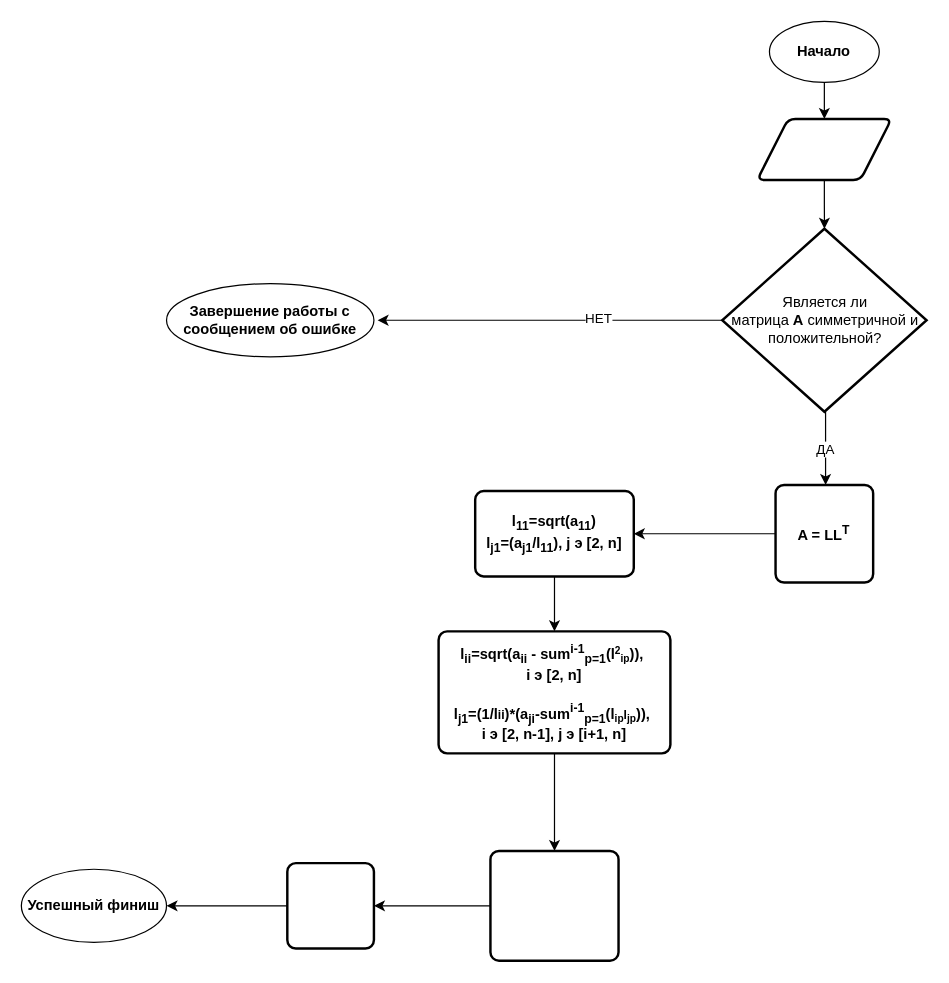
Some shapes in this 949 by 983 pixel diagram are drawn without their labels. Here are the shapes that lost their labels. From the top down, the box of each, then its label:
(755, 117, 892, 181): Ввод: матрица Ax
(285, 861, 375, 949): Результат: x, y
(489, 849, 619, 961): Вычислительные системы: Ly = b L T x = y
